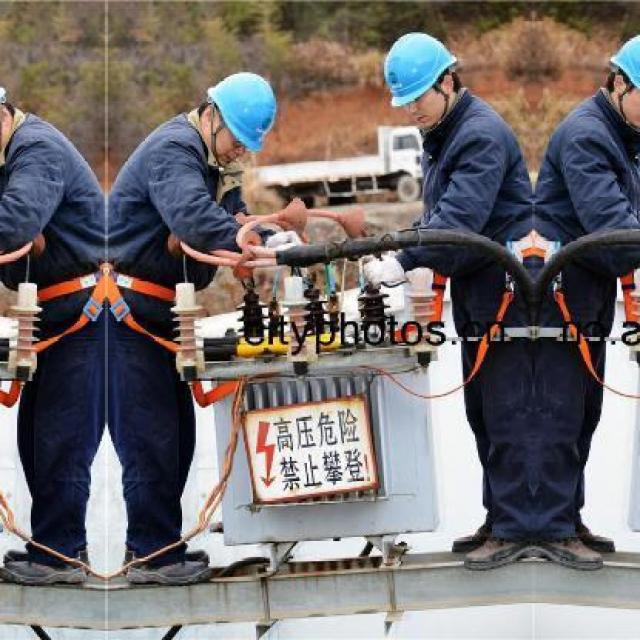hat: (204, 65, 284, 154), (386, 31, 457, 107)
